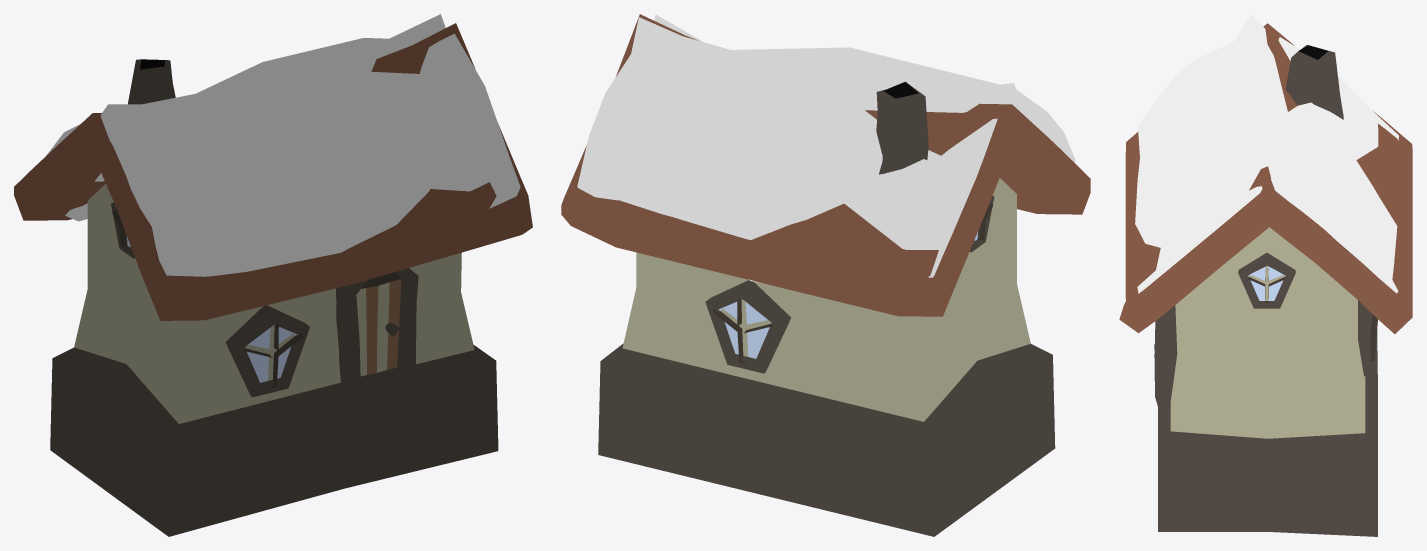
The model's file is house_simple_02.dae.
3 renders of one model, left to right at view 1: azimuth 30°, elevation 25°; view 2: azimuth 150°, elevation 25°; view 3: azimuth 270°, elevation 25°, orthographic. The views are drawn at different scales.
Parts seen in each view (by area): view 1: house_simple_02-0; view 2: house_simple_02-0; view 3: house_simple_02-0.
Boxes of the visible parts, box(x1,y1,x2,y2) form: house_simple_02-0: box(14, 14, 532, 536); house_simple_02-0: box(561, 14, 1090, 536); house_simple_02-0: box(1119, 14, 1412, 536).
Size of the model in its own units: 8.69 by 9.06 by 6.52.
